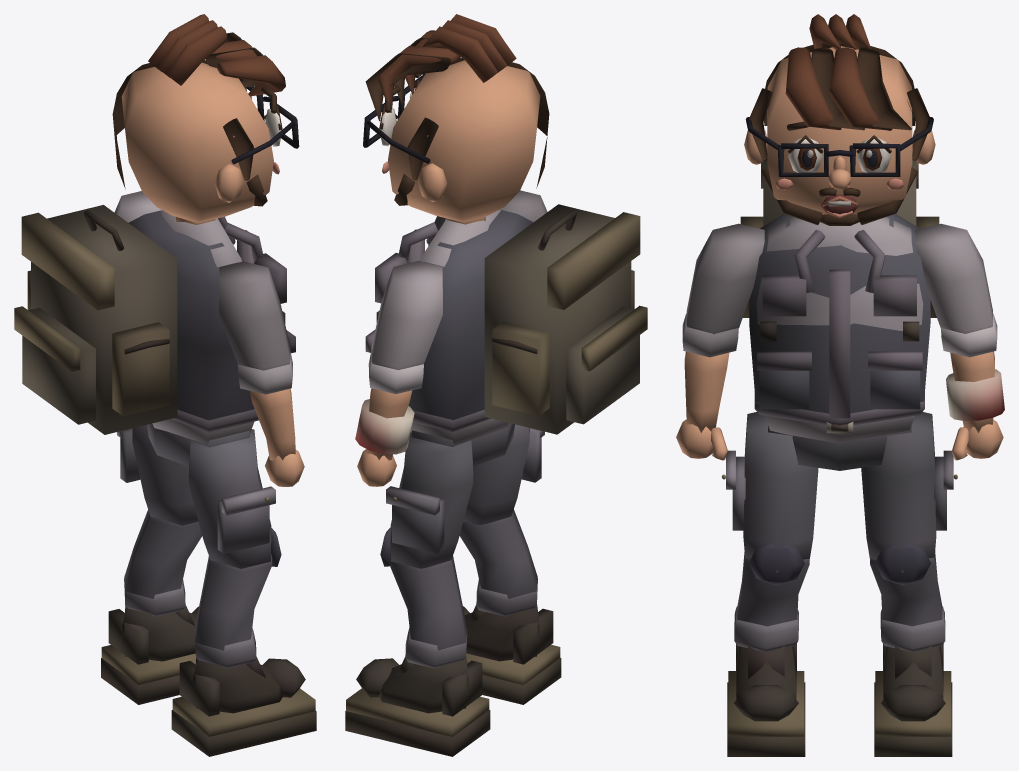
The model's file is npc.survivor-group.aftermath.sam.glb.
The picture shows the model from 3 angles, left to right: view 1: azimuth 30°, elevation 25°; view 2: azimuth 150°, elevation 25°; view 3: azimuth 270°, elevation 25°; orthographic projection. The views are drawn at different scales.
Parts seen in each view (by area): view 1: torso, head, footR, legR, footL, shinR, armR, shinL, legL, foreArmR, hip, handR (+1 smaller); view 2: torso, head, footL, legL, footR, shinL, armL, shinR, foreArmL, legR, hip, handL (+1 smaller); view 3: torso, head, legR, legL, footR, footL, shinL, shinR, armR, armL, foreArmL, foreArmR (+3 smaller).
Part boxes in pixels (x1=…): torso: x1=14, y1=205, x2=295, y2=444; head: x1=112, y1=14, x2=299, y2=224; footR: x1=171, y1=656, x2=316, y2=756; legR: x1=188, y1=429, x2=275, y2=568; footL: x1=101, y1=605, x2=198, y2=704; shinR: x1=194, y1=527, x2=281, y2=668; armR: x1=219, y1=261, x2=290, y2=370; shinL: x1=124, y1=509, x2=202, y2=616; legL: x1=117, y1=425, x2=198, y2=525; foreArmR: x1=238, y1=352, x2=295, y2=460; hip: x1=147, y1=423, x2=249, y2=466; handR: x1=265, y1=449, x2=304, y2=486; torso: x1=365, y1=204, x2=647, y2=444; head: x1=363, y1=14, x2=549, y2=224; footL: x1=345, y1=656, x2=490, y2=756; legL: x1=386, y1=431, x2=473, y2=568; footR: x1=463, y1=605, x2=561, y2=704; shinL: x1=380, y1=527, x2=467, y2=668; armL: x1=371, y1=261, x2=442, y2=370; shinR: x1=459, y1=509, x2=537, y2=616; foreArmL: x1=355, y1=352, x2=423, y2=460; legR: x1=463, y1=424, x2=544, y2=525; hip: x1=411, y1=423, x2=514, y2=466; handL: x1=357, y1=449, x2=396, y2=486; torso: x1=740, y1=152, x2=939, y2=443; head: x1=744, y1=14, x2=935, y2=225; legR: x1=722, y1=412, x2=818, y2=560; legL: x1=861, y1=412, x2=957, y2=560; footR: x1=727, y1=643, x2=805, y2=756; footL: x1=874, y1=644, x2=952, y2=756; shinL: x1=870, y1=543, x2=945, y2=652; shinR: x1=734, y1=543, x2=809, y2=652; armR: x1=686, y1=223, x2=764, y2=334; armL: x1=915, y1=223, x2=992, y2=333; foreArmL: x1=941, y1=313, x2=1004, y2=432; foreArmR: x1=682, y1=313, x2=738, y2=432.
Bounding box in the file's own units: 0.6327 × 1.78 × 0.7497.
